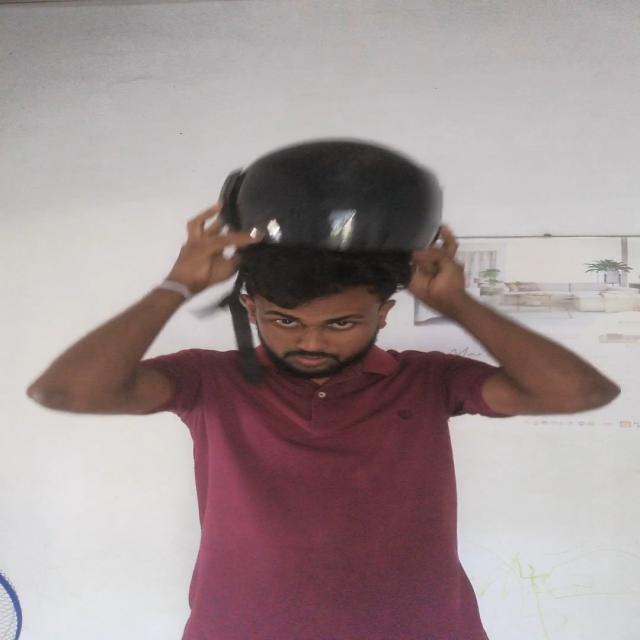Helmet_Wearer: (172, 131, 465, 405)
